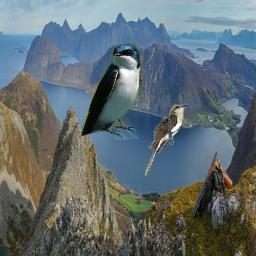Cuckoo: (145, 104, 188, 176)
Swallow: (81, 42, 144, 140)
